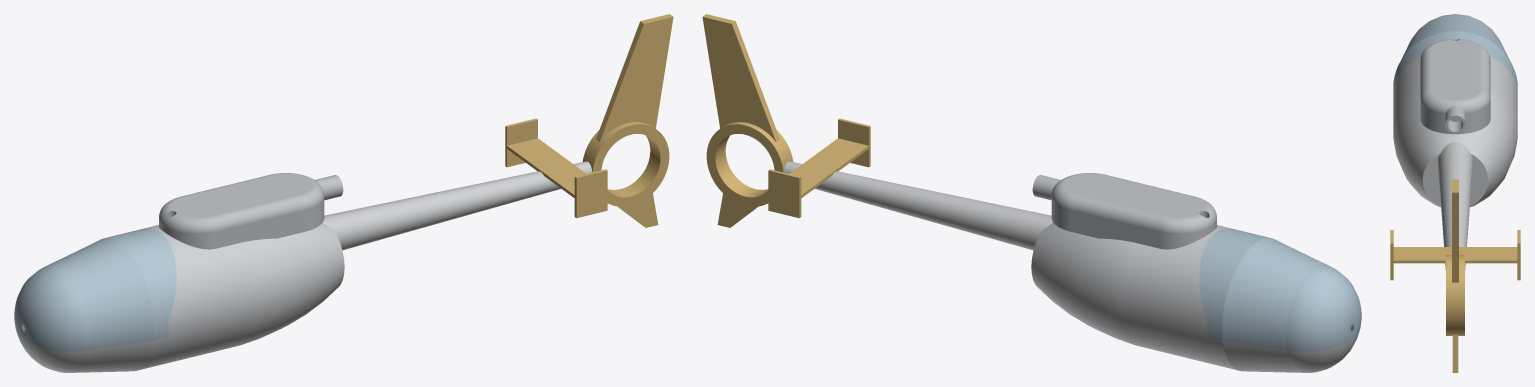
The model's file is step_48.glb.
3 renders of one model, left to right at view 1: azimuth 30°, elevation 25°; view 2: azimuth 150°, elevation 25°; view 3: azimuth 270°, elevation 25°, orthographic. The views are drawn at different scales.
Parts seen in each view (by area): view 1: part__fuselage, part__canopy glazing, part__engine cowling, part__fin and fan duct, part__tail boom, part__horizontal stabiliser; view 2: part__fuselage, part__canopy glazing, part__engine cowling, part__fin and fan duct, part__tail boom, part__horizontal stabiliser; view 3: part__fuselage, part__engine cowling, part__canopy glazing, part__tail boom, part__fin and fan duct, part__horizontal stabiliser.
Part boxes in pixels (x1,y1,x2,y2): part__fuselage: (16, 222, 344, 372); part__canopy glazing: (14, 228, 176, 351); part__engine cowling: (159, 173, 343, 249); part__fin and fan duct: (582, 14, 673, 227); part__tail boom: (323, 161, 592, 250); part__horizontal stabiliser: (505, 118, 607, 218); part__fuselage: (1031, 222, 1358, 372); part__canopy glazing: (1199, 228, 1361, 351); part__engine cowling: (1032, 173, 1216, 249); part__fin and fan duct: (702, 14, 793, 227); part__tail boom: (783, 161, 1052, 250); part__horizontal stabiliser: (768, 118, 870, 218); part__fuselage: (1393, 57, 1517, 207); part__engine cowling: (1420, 39, 1490, 134); part__canopy glazing: (1393, 14, 1517, 88); part__tail boom: (1437, 142, 1473, 269); part__fin and fan duct: (1446, 179, 1464, 372); part__horizontal stabiliser: (1390, 230, 1520, 280).
Bounding box in the file's own units: 8773 × 2800 × 1670.
